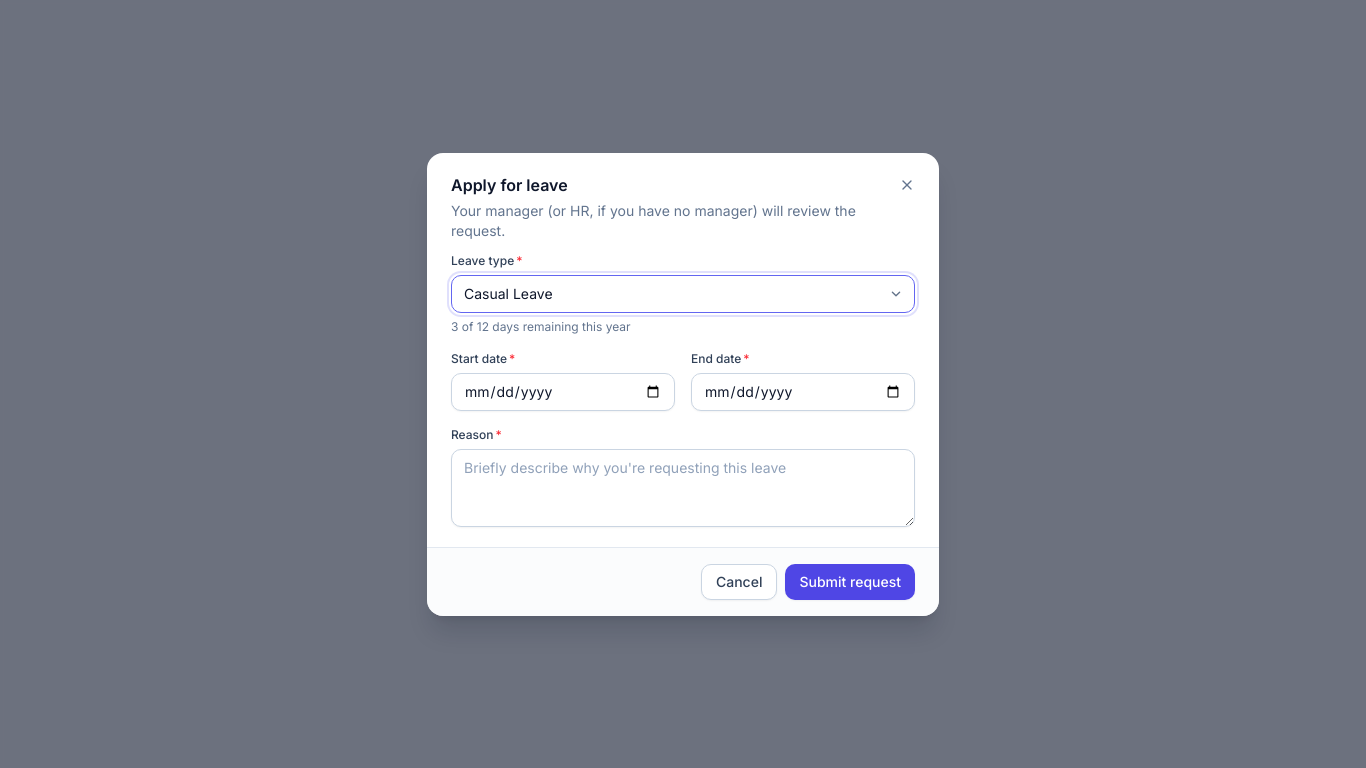
Test case: LeaveFormModal › blocks a range with no working days
In the date field labelled "Start date*": (563, 392) [451,372,675,410], type "2026-08-08"
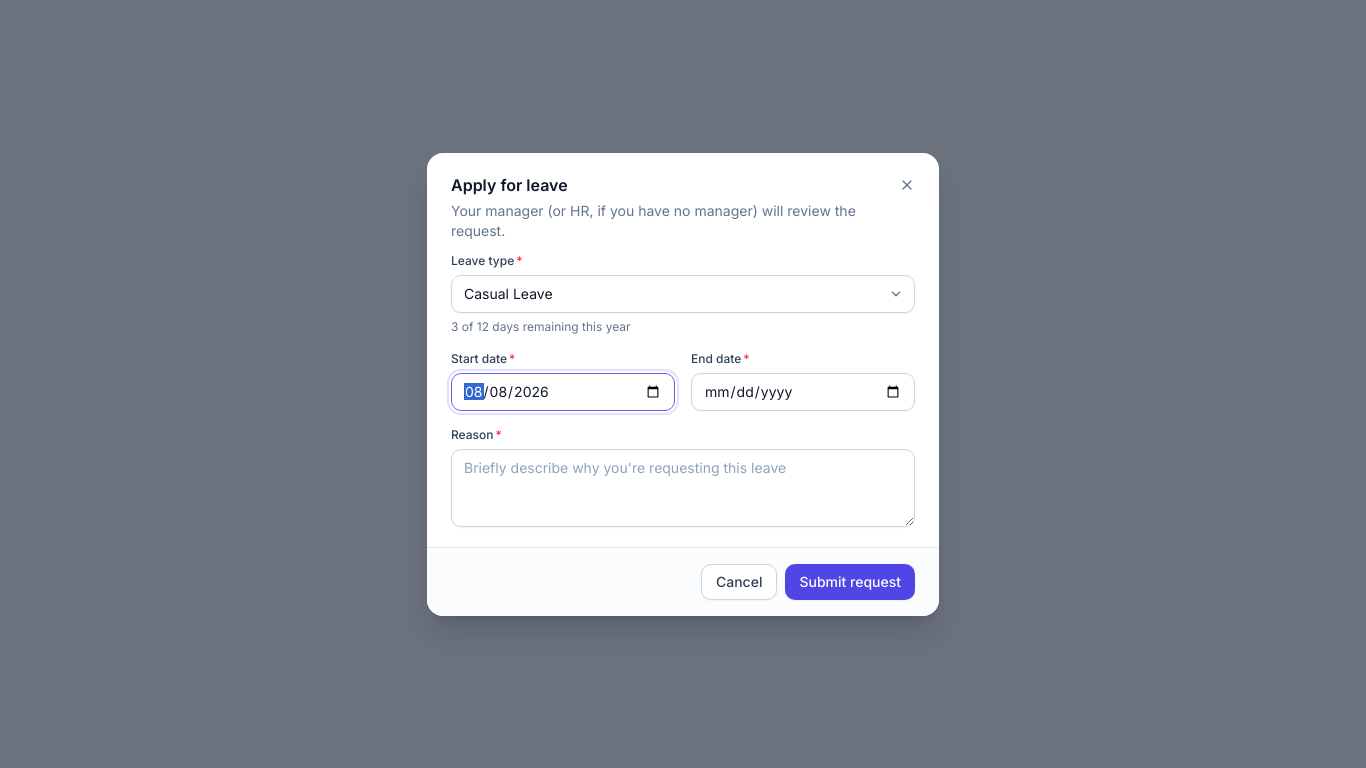
In the date field labelled "End date*": (803, 392) [691,372,915,410], type "2026-08-09"
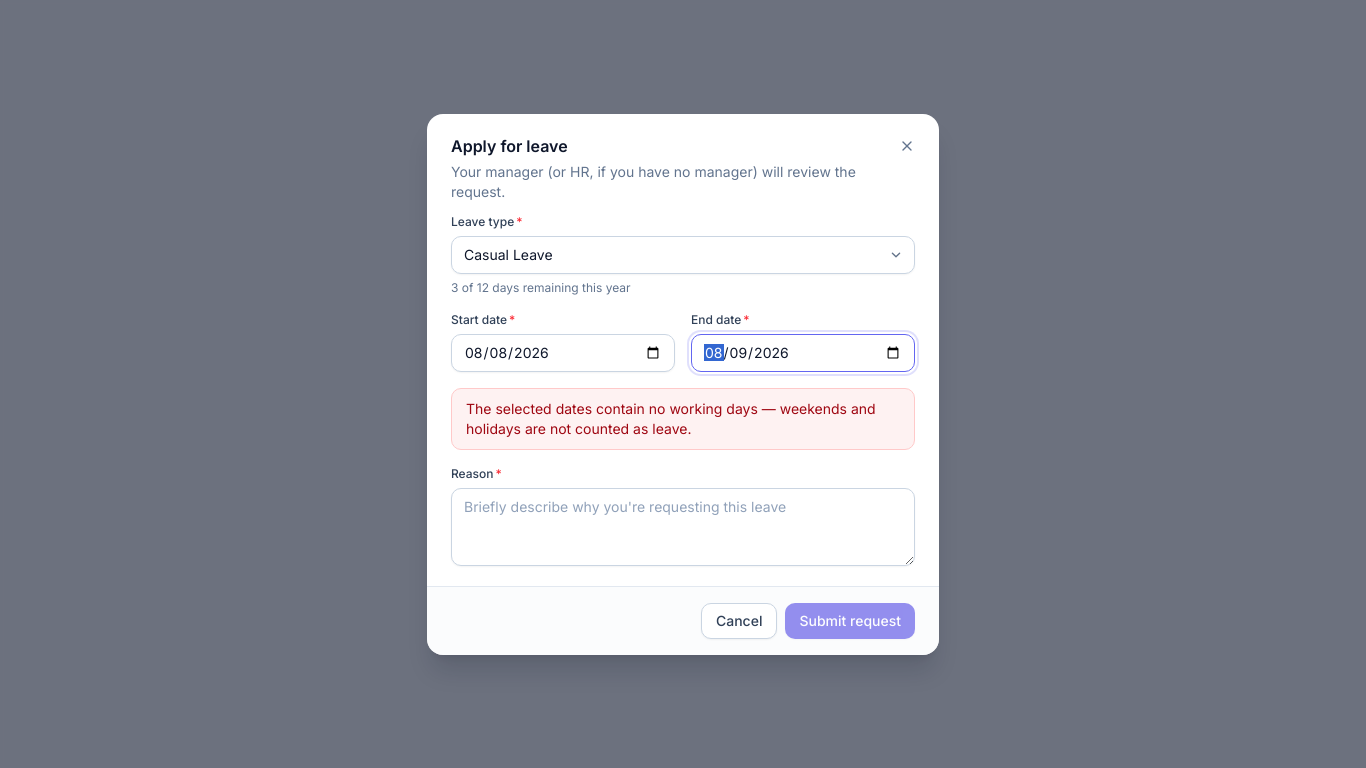
Expected: the text "no working days" is shown, [466,400,876,436]
Expected: the button "Submit request" is disabled, [785,602,915,638]
